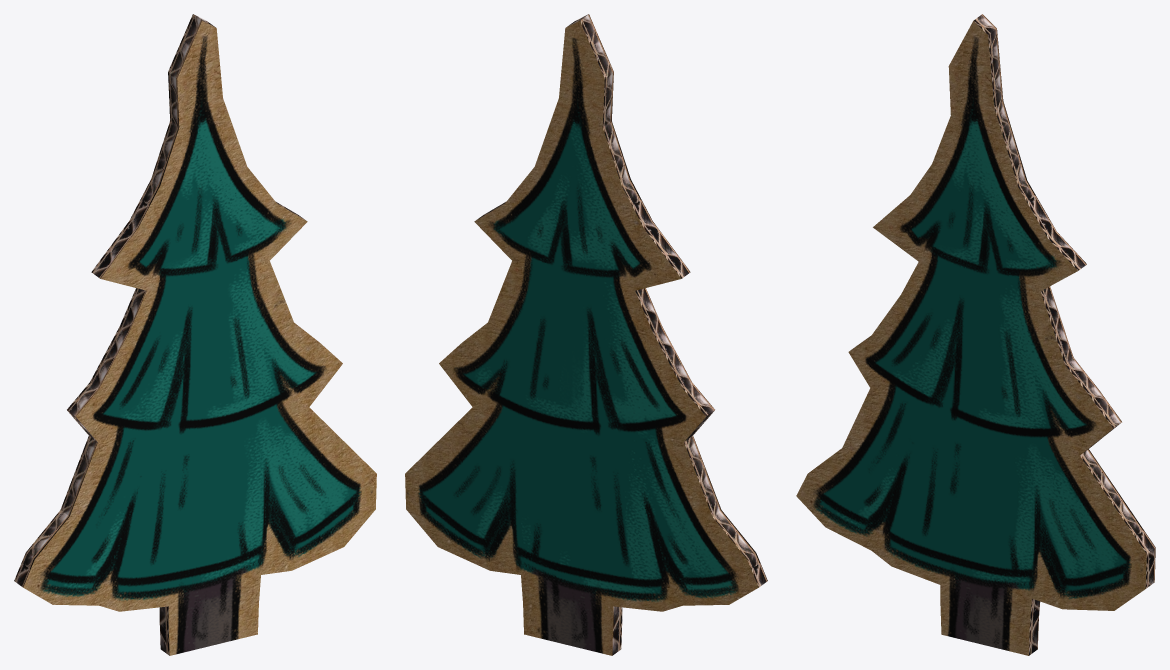
Rendered from Tree01.fbx.
The picture shows the model from 3 angles, left to right: view 1: azimuth 30°, elevation 25°; view 2: azimuth 150°, elevation 25°; view 3: azimuth 330°, elevation 25°; orthographic projection.
Visible parts, largest first — view 1: Pine; view 2: Pine; view 3: Pine.
Part boxes in pixels (x1,y1,x2,y2): Pine: (14,14,376,655); Pine: (405,14,767,655); Pine: (796,14,1155,655).
Size of the model in its own units: 220 by 373 by 9.8.
